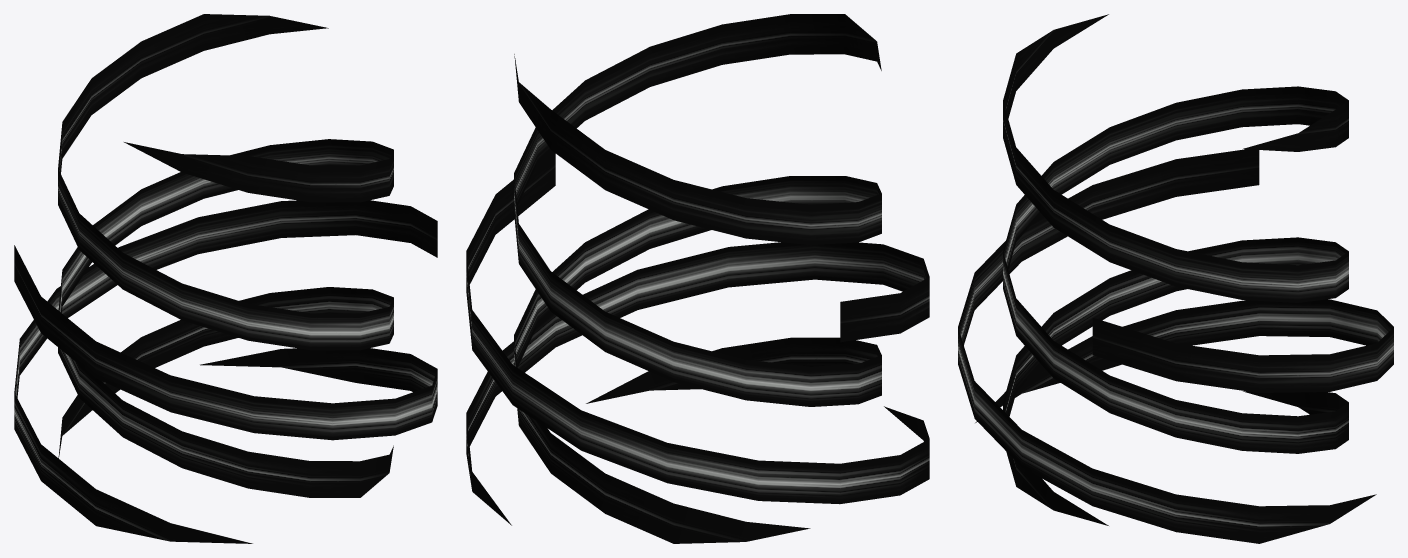
The model's file is effect_zhenji_1.FBX.
3 views of the same model, side by side, from view 1: azimuth 30°, elevation 25°; view 2: azimuth 150°, elevation 25°; view 3: azimuth 270°, elevation 25° (orthographic). The views are drawn at different scales.
Parts seen in each view (by area): view 1: effect_zhenji_1, effect_zhenji_2; view 2: effect_zhenji_1, effect_zhenji_2; view 3: effect_zhenji_1, effect_zhenji_2.
Part boxes in pixels (<box>): effect_zhenji_1: <box>58,14,393,497</box>; effect_zhenji_2: <box>14,200,437,543</box>; effect_zhenji_1: <box>514,14,881,543</box>; effect_zhenji_2: <box>466,151,929,525</box>; effect_zhenji_1: <box>1003,14,1348,525</box>; effect_zhenji_2: <box>958,149,1393,543</box>.
Size of the model in its own units: 182 by 174 by 182.
Materials: 1 (1 with a texture image).
